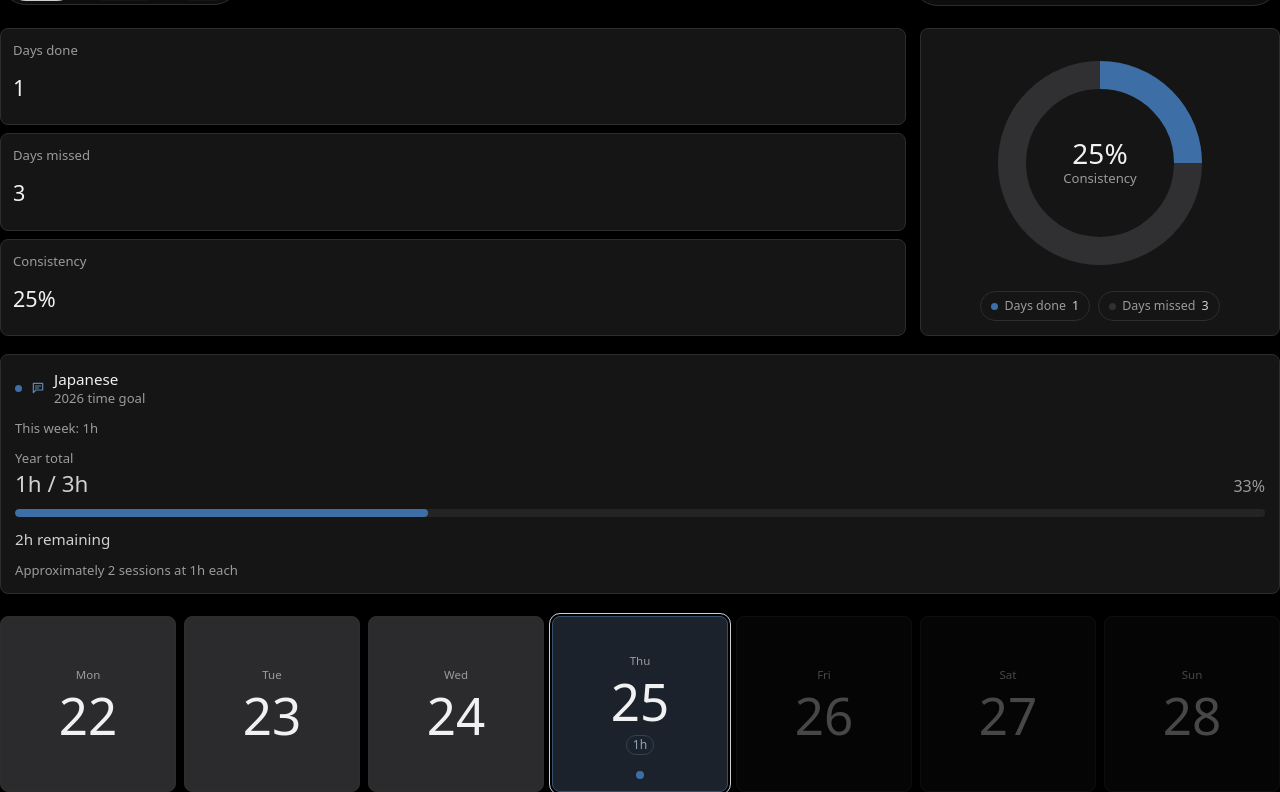
it: StatisticsView time goal card › marks an individual habit complete and incomplete with immediate recalculation
(page scrolled)
Expected: the element named "Days done: Eligible days when the selected habit was completed." shows "1", [13,73,25,102]
Step 1. Click the button with aria-label "Tuesday, June 23, 2026, Japanese not completed" → (272, 704), box [184,616,360,791]
(page scrolled)
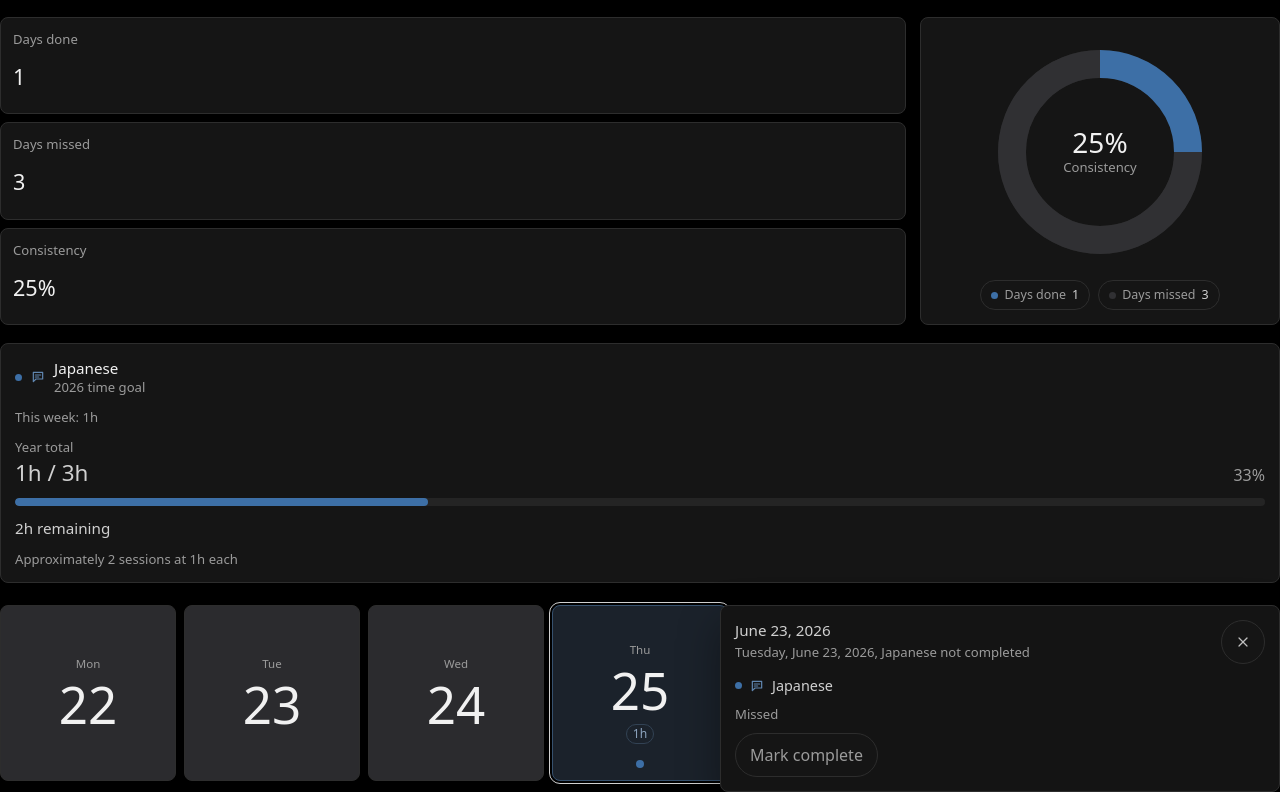
Step 2. Click the button "Mark complete" → (806, 755), box [735,733,878,777]
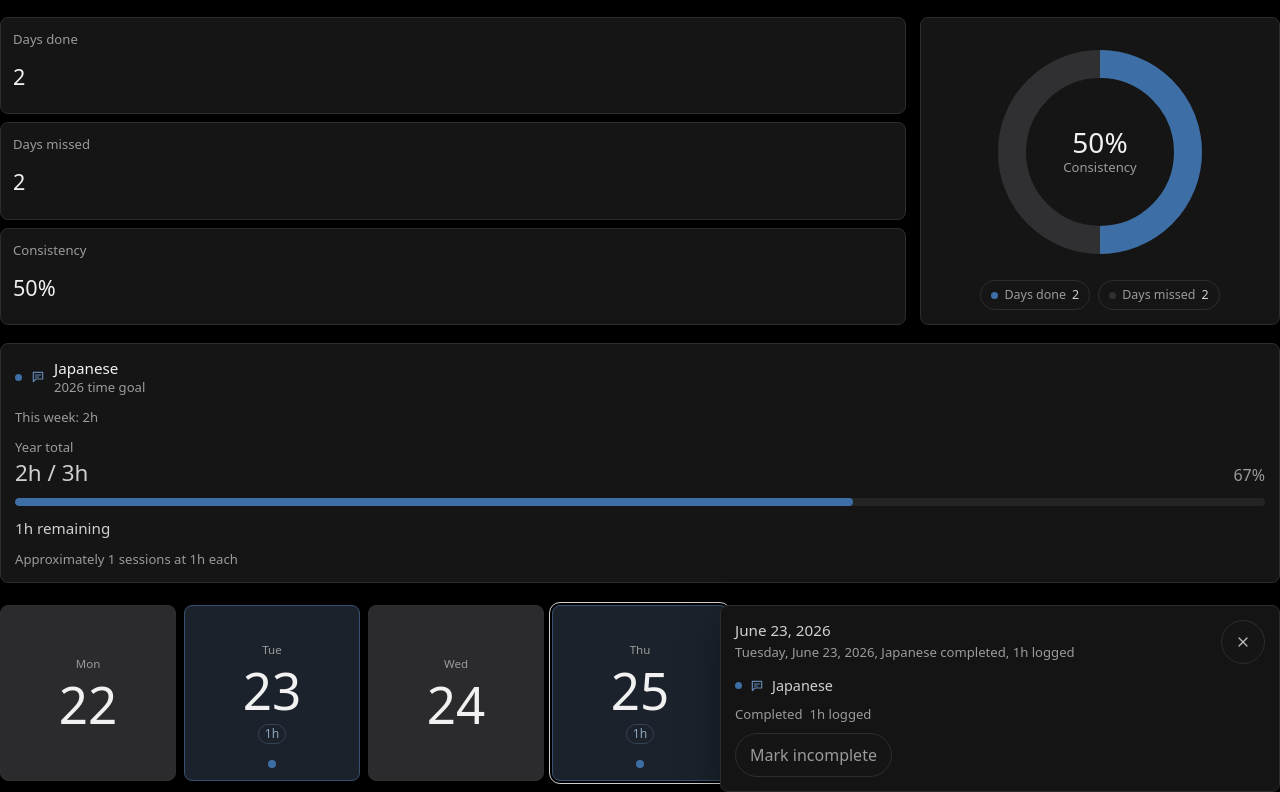
Result: the element named "Days done: Eligible days when the selected habit was completed." shows "2" at [13,62,25,91]
Result: the button with aria-label "Tuesday, June 23, 2026, Japanese completed, 1h logged" is shown at [184,605,360,781]
Step 3. Click the button "Mark incomplete" → (813, 755), box [735,733,892,777]
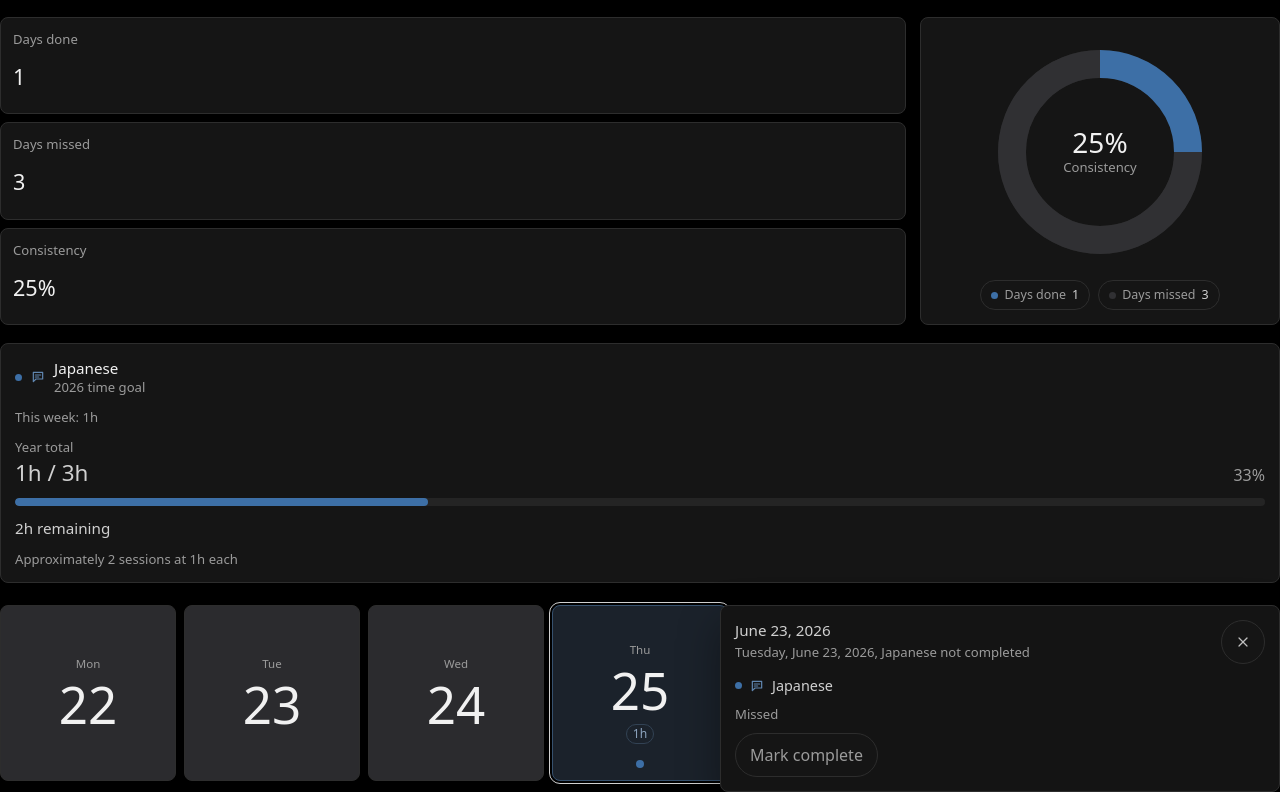
Result: the element named "Days done: Eligible days when the selected habit was completed." shows "1" at [13,62,25,91]
Result: the button with aria-label "Tuesday, June 23, 2026, Japanese not completed" is shown at [184,605,360,781]
